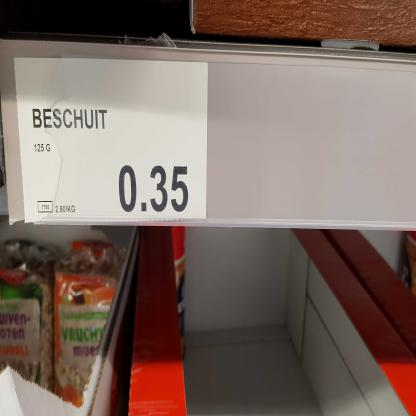prtg: (15, 58, 210, 224)
